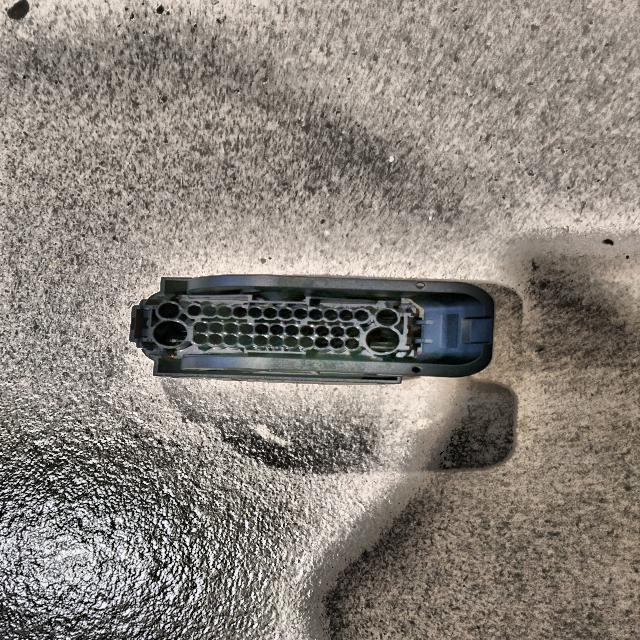P38: (130, 275, 494, 384)
